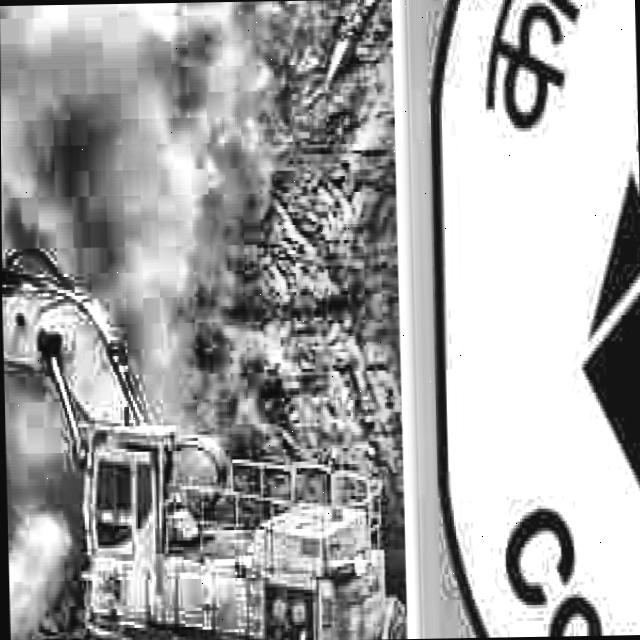excavator: (1, 183, 391, 640)
